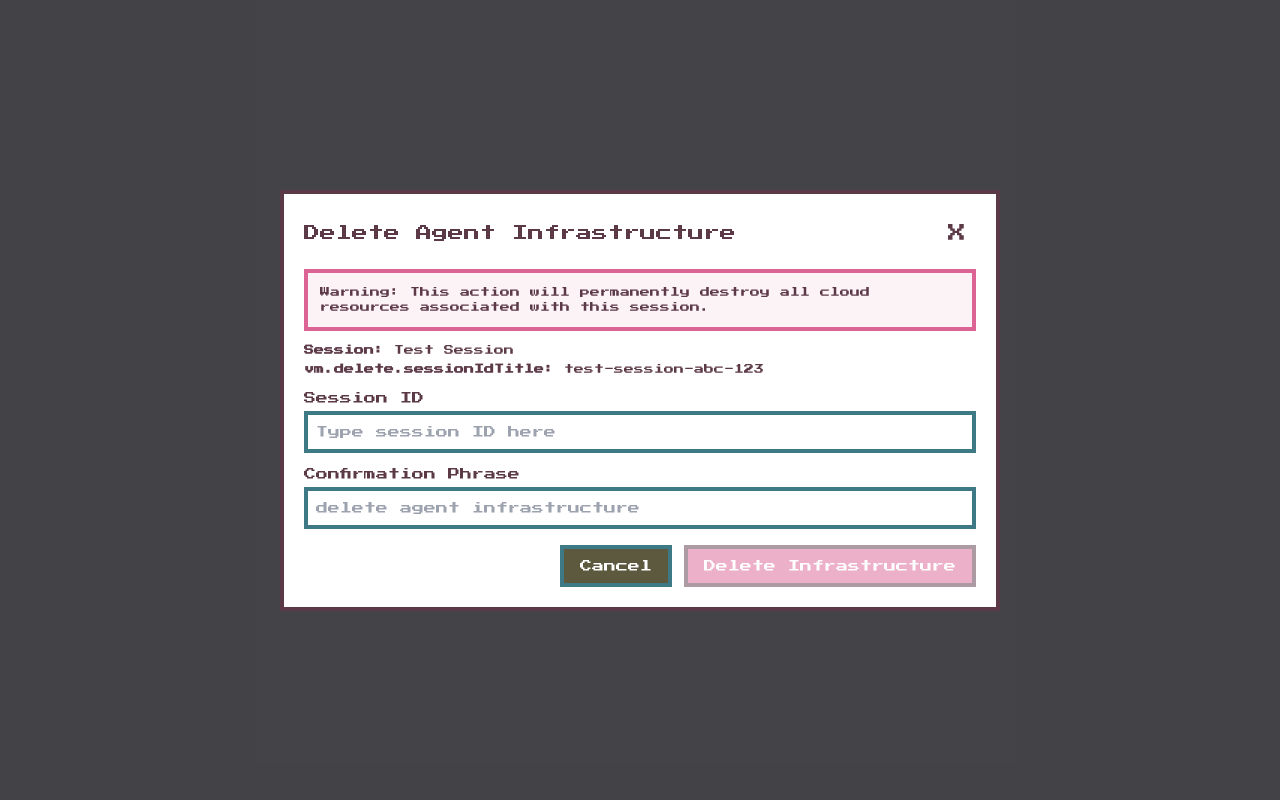
Test: DeleteInfrastructureModal Component › should validate session ID input
# Enter incorrect session ID
Type "wrong-session-id" into the field with placeholder "Type session ID here" at (640, 432), box [304,410,976,452]
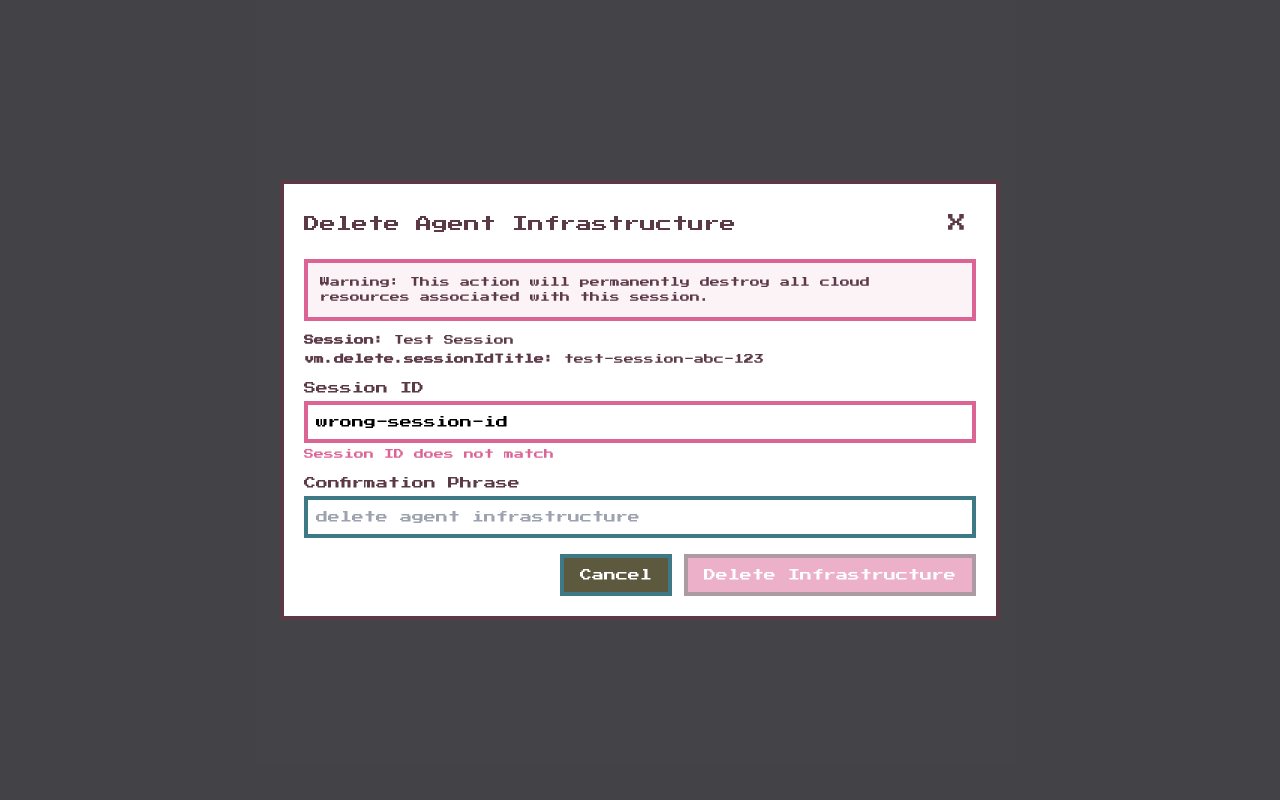
Result: the text "Session ID does not match" is shown at [304,449,554,459]
# Enter correct session ID
Replace the text in the field with placeholder "Type session ID here" with "test-session-abc-123" at (640, 422), box [304,401,976,443]
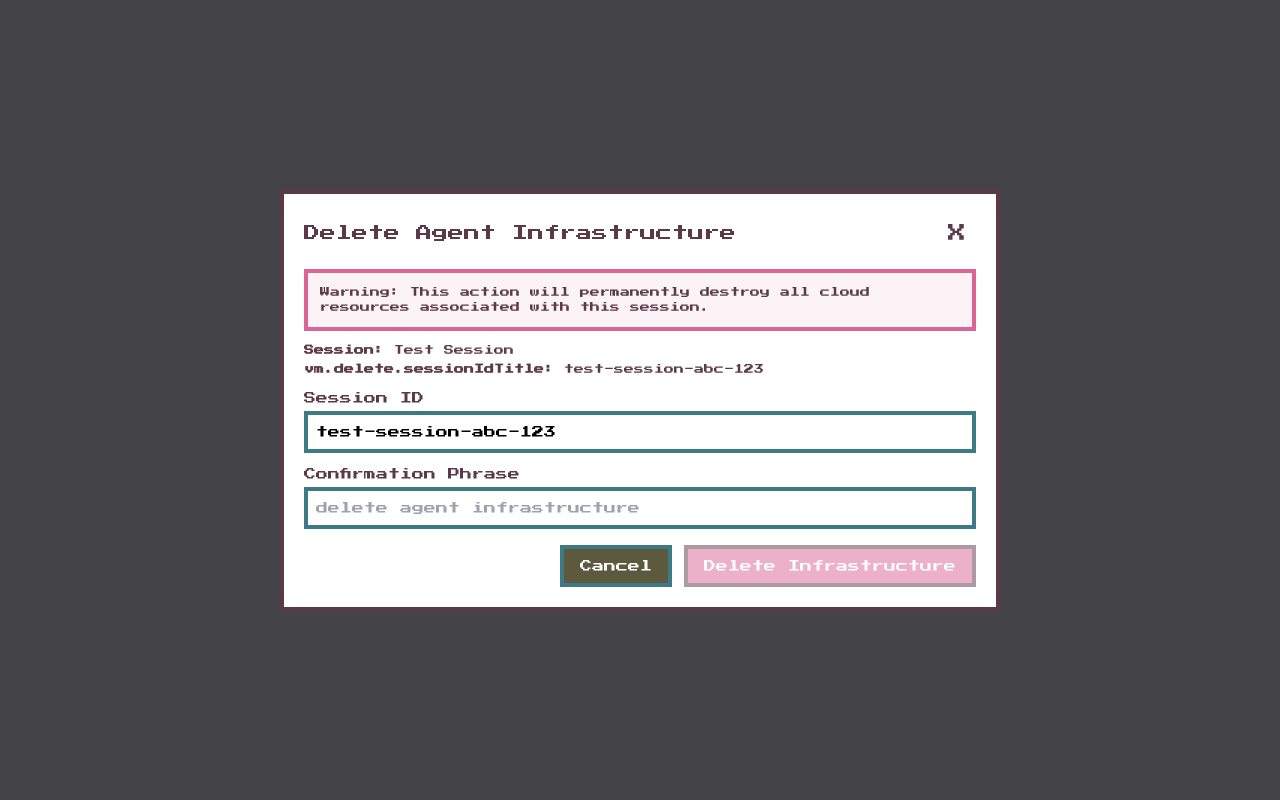
Result: the text "Session ID does not match" is gone
